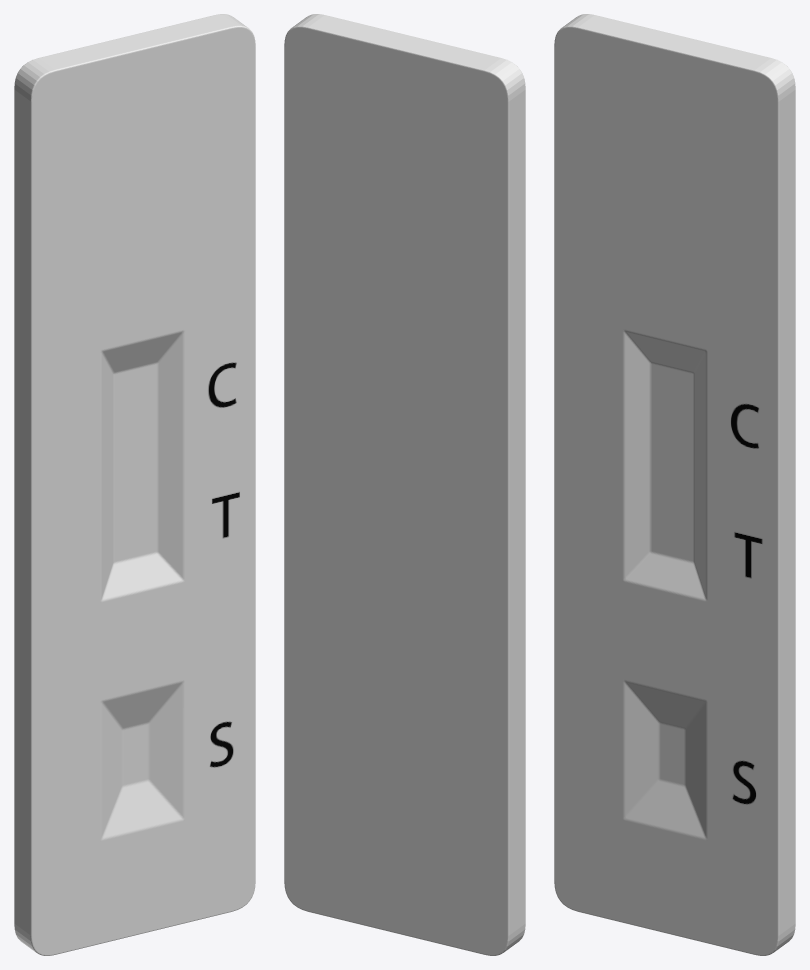
Rendered from 胶体金试纸.glb.
The picture shows the model from 3 angles, left to right: view 1: azimuth 30°, elevation 25°; view 2: azimuth 150°, elevation 25°; view 3: azimuth 330°, elevation 25°; orthographic projection.
Parts seen in each view (by area): view 1: 胶体金试纸; view 2: 胶体金试纸; view 3: 胶体金试纸.
Boxes of the visible parts, box(x1,y1,x2,y2) form: 胶体金试纸: box(14, 14, 255, 955); 胶体金试纸: box(284, 14, 525, 955); 胶体金试纸: box(554, 14, 795, 955).
Bounding box in the file's own units: 0.3271 × 1.23 × 0.0439.
1 material, 1 textured.
